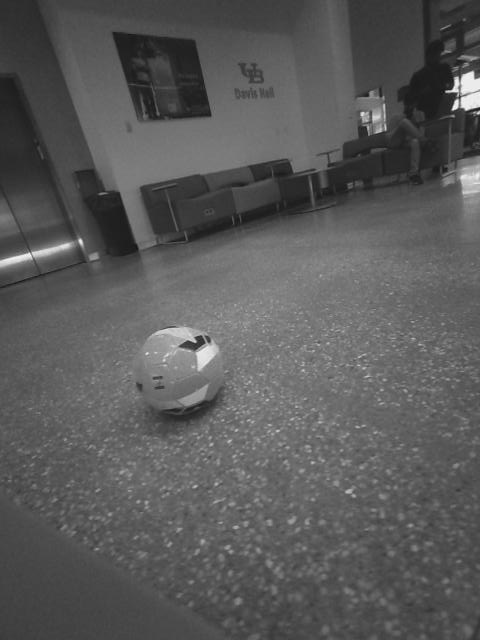ball: (126, 319, 231, 421)
